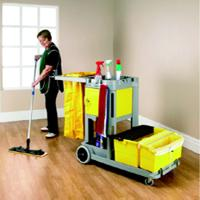person: (31, 30, 65, 140)
